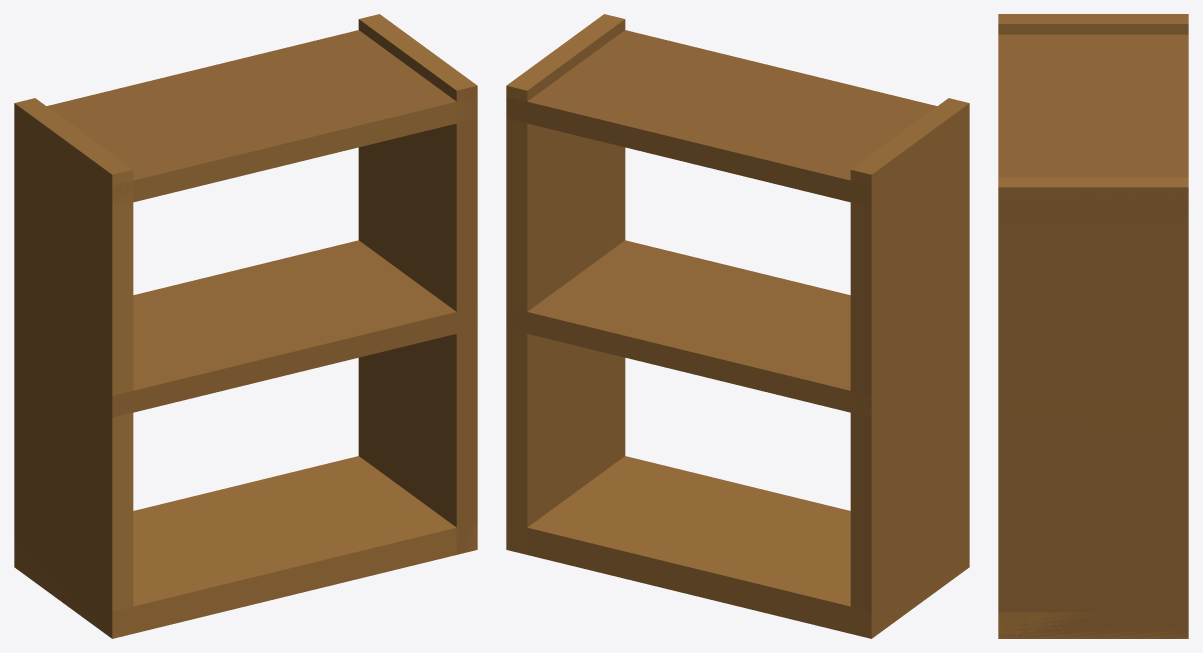
Rendered from A_StorageRack.fbx.
3 renders of one model, left to right at view 1: azimuth 30°, elevation 25°; view 2: azimuth 150°, elevation 25°; view 3: azimuth 270°, elevation 25°, orthographic. The views are drawn at different scales.
Visible parts, largest first — view 1: A_StorageRack.007; view 2: A_StorageRack.007; view 3: A_StorageRack.007.
Boxes of the visible parts, x1=… form: A_StorageRack.007: x1=14, y1=14, x2=477, y2=638; A_StorageRack.007: x1=506, y1=14, x2=969, y2=638; A_StorageRack.007: x1=998, y1=14, x2=1188, y2=638.
Size of the model in its own units: 1.4 by 1.7 by 0.65.
